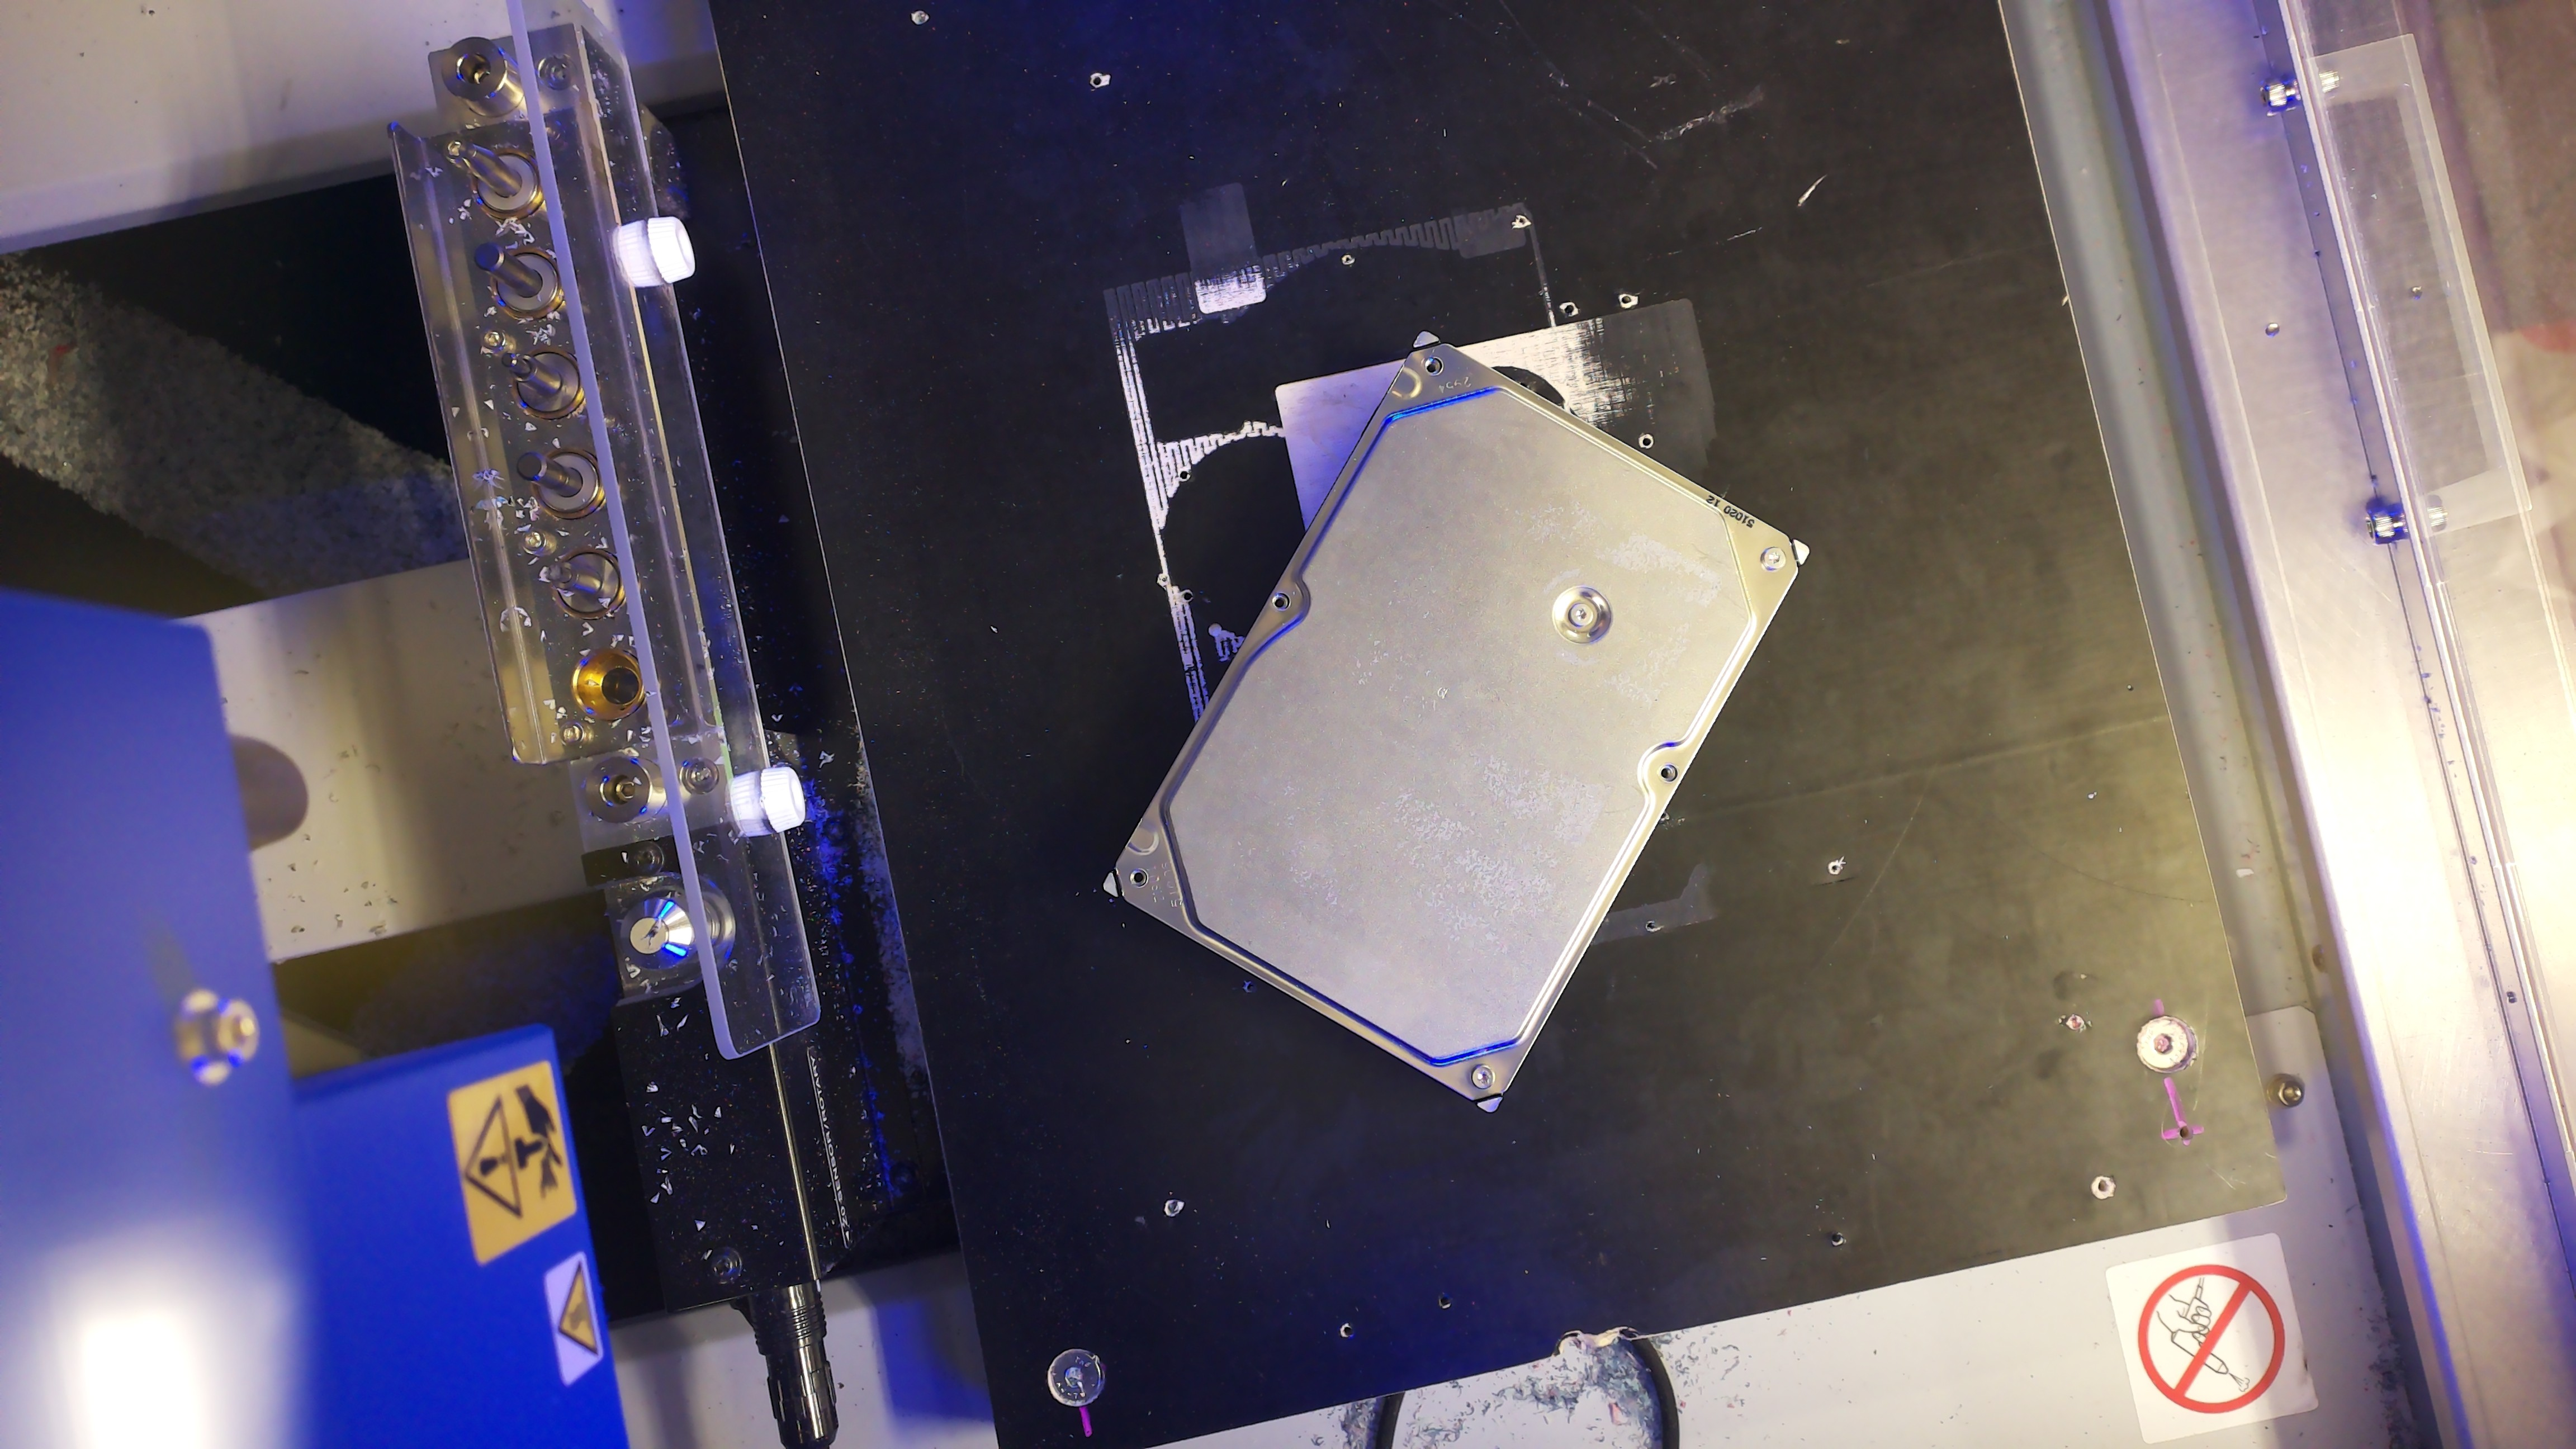Hole: (1658, 763, 1679, 782), (1129, 869, 1148, 888), (1424, 356, 1444, 375), (1272, 593, 1292, 610)
Screw: (1470, 1063, 1495, 1090), (1568, 602, 1594, 626), (1762, 547, 1785, 570)
